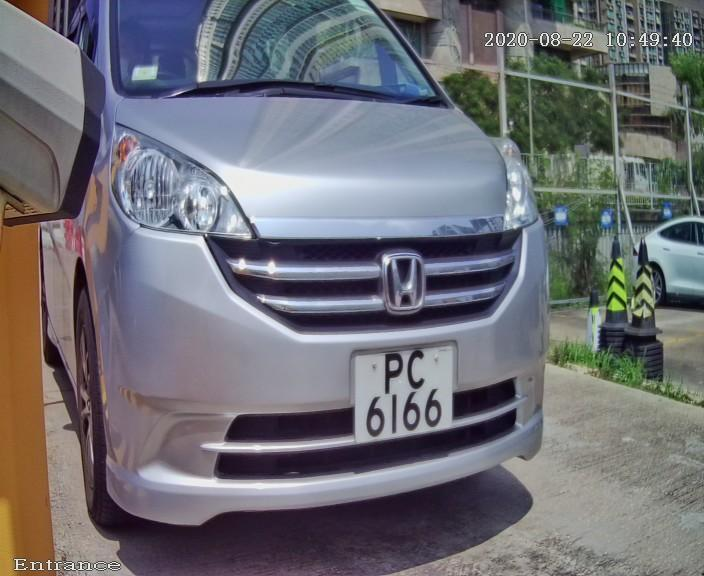License Plate: (343, 330, 466, 451)
